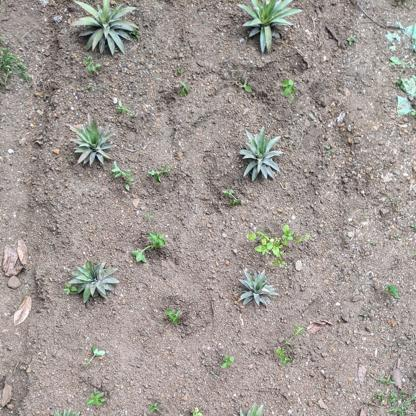pineapple: (66, 1, 143, 55), (232, 1, 307, 54), (236, 126, 288, 181), (68, 112, 117, 167), (66, 258, 120, 303), (237, 265, 279, 307)
weed: (244, 223, 308, 259), (128, 231, 166, 265), (160, 303, 189, 335)
